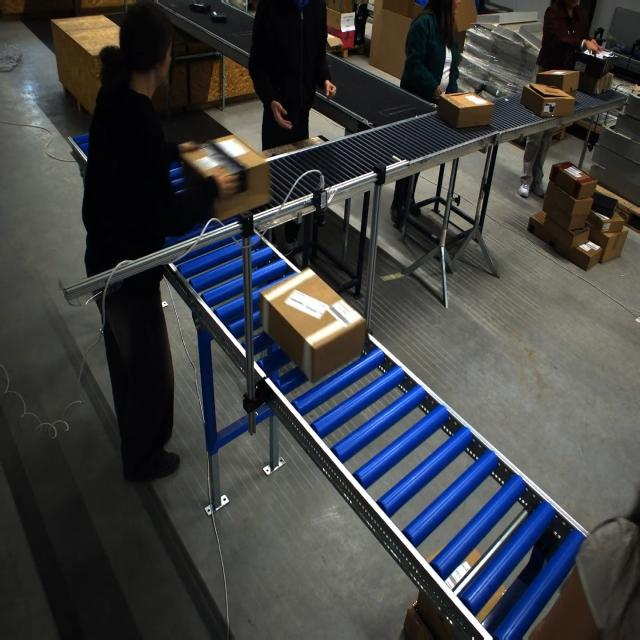box: (260, 269, 357, 382), (184, 133, 271, 221), (435, 91, 494, 129), (519, 82, 576, 119)
product: (189, 2, 211, 13), (210, 11, 227, 22)
